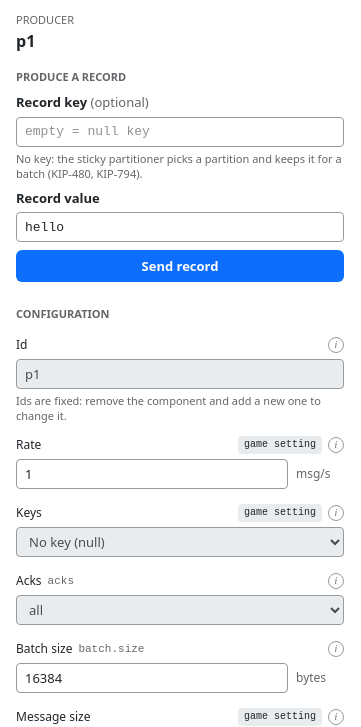
Test: <ManualProduce> › shows the engine rejection
The image size is (361, 727).
Click the button "Send record".
click(180, 266)  # box 16,250 -> 344,282
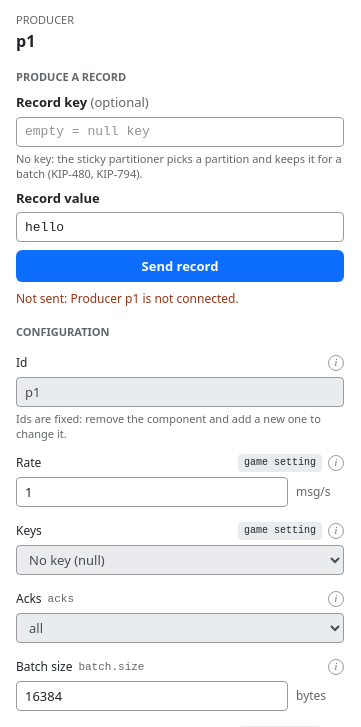
Check: the text "Not sent: Producer p1 is not connected." is shown, box 16,290 -> 239,307
